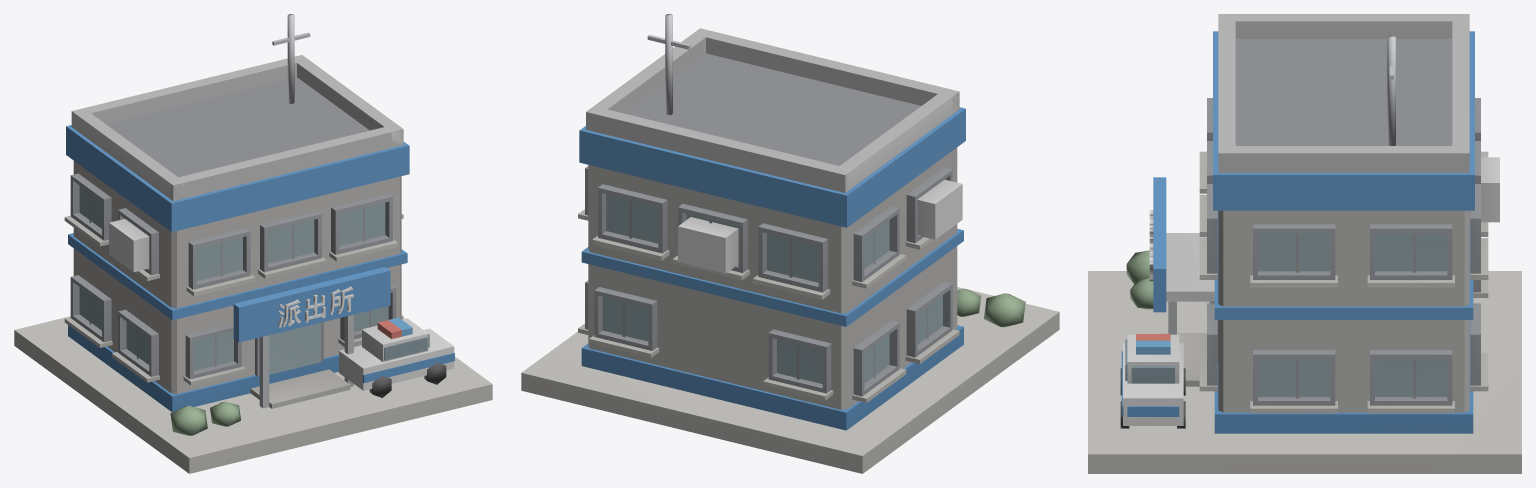
Rendered from police.glb.
3 renders of one model, left to right at view 1: azimuth 30°, elevation 25°; view 2: azimuth 150°, elevation 25°; view 3: azimuth 270°, elevation 25°, orthographic. The views are drawn at different scales.
Visible parts, largest first — view 1: police; view 2: police; view 3: police.
Part boxes in pixels (box(x1,y1,x2,y2)): police: box(14, 14, 492, 473); police: box(521, 14, 1059, 473); police: box(1088, 14, 1521, 473).
Size of the model in its own units: 1 by 0.99 by 1.
